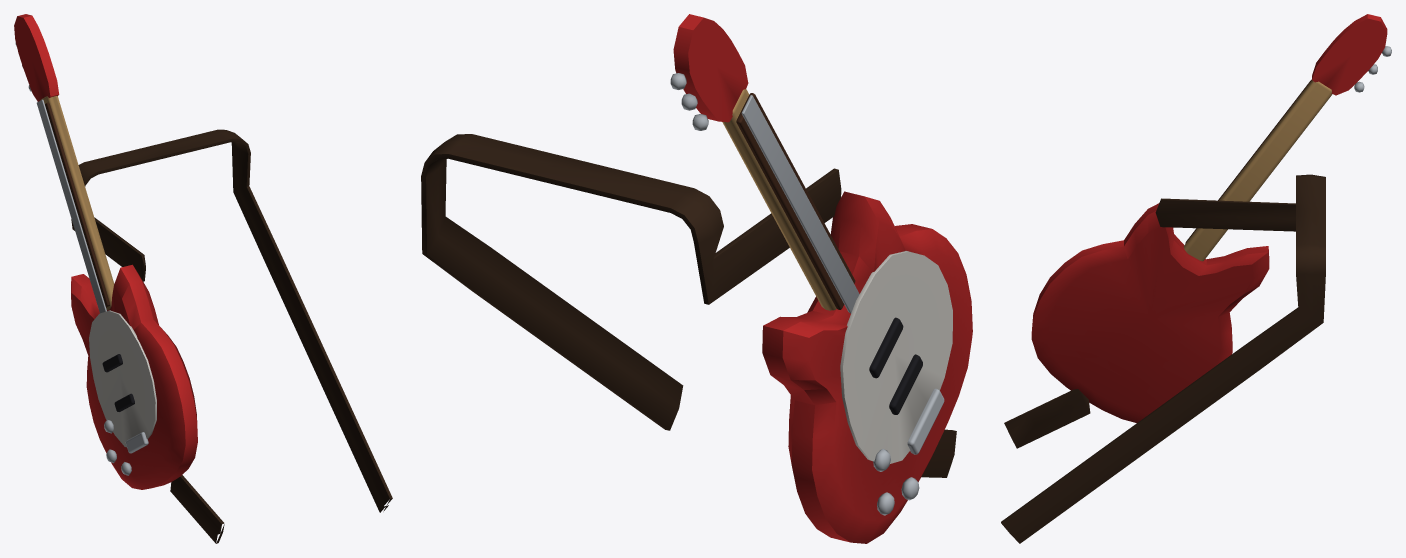
The model's file is acc_guitar.glb.
The picture shows the model from 3 angles, left to right: view 1: azimuth 30°, elevation 25°; view 2: azimuth 150°, elevation 25°; view 3: azimuth 270°, elevation 25°; orthographic projection. The views are drawn at different scales.
Visible parts, largest first — view 1: acc_guitar; view 2: acc_guitar; view 3: acc_guitar.
Boxes of the visible parts, x1,y1,x2,y2 form: acc_guitar: (14, 14, 392, 543); acc_guitar: (421, 14, 972, 543); acc_guitar: (1001, 14, 1391, 543).
Bounding box in the file's own units: 0.5177 × 0.9945 × 0.813.
